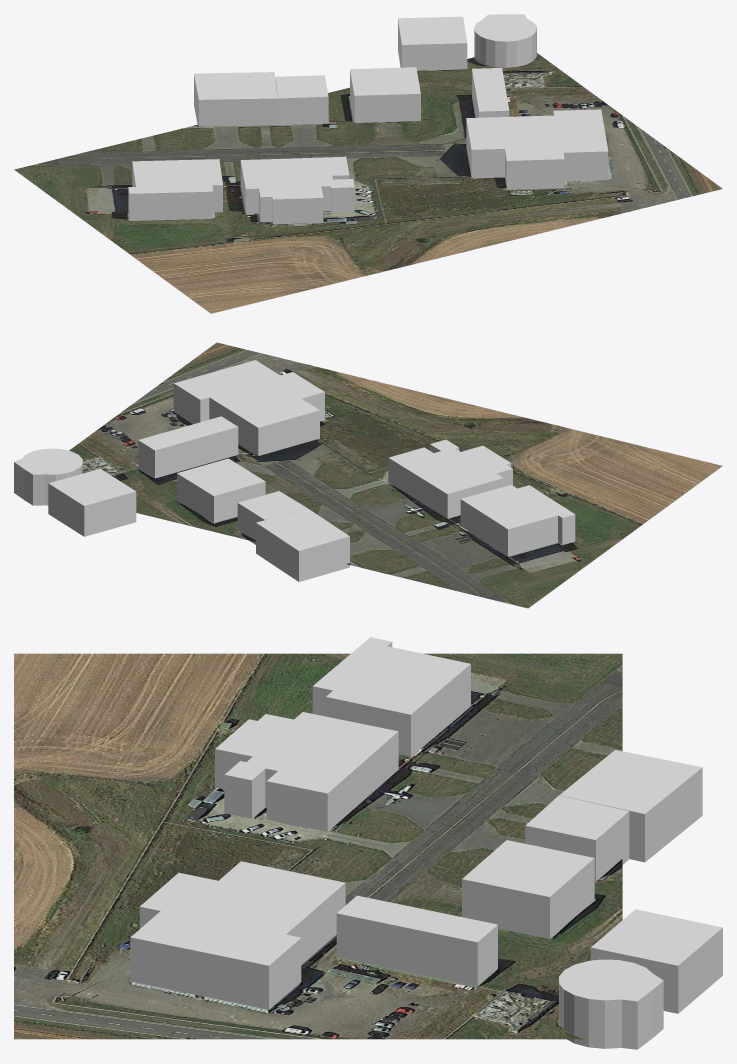
Rendered from V1_world_collisions_a.dae.
The picture shows the model from 3 angles, top to bottom: view 1: azimuth 30°, elevation 25°; view 2: azimuth 150°, elevation 25°; view 3: azimuth 270°, elevation 25°; orthographic projection. The views are drawn at different scales.
Parts seen in each view (by area): view 1: EXPORT_GOOGLE_SAT_WM, Areas:building.001, Areas:building.002; view 2: EXPORT_GOOGLE_SAT_WM, Areas:building.001, Areas:building.002; view 3: EXPORT_GOOGLE_SAT_WM, Areas:building.001, Areas:building.002.
Part boxes in pixels (<box>): EXPORT_GOOGLE_SAT_WM: <box>14,53,722,313</box>; Areas:building.001: <box>128,14,608,220</box>; Areas:building.002: <box>240,156,354,224</box>; EXPORT_GOOGLE_SAT_WM: <box>69,342,722,608</box>; Areas:building.001: <box>14,360,575,581</box>; Areas:building.002: <box>388,439,512,518</box>; EXPORT_GOOGLE_SAT_WM: <box>14,653,622,1039</box>; Areas:building.001: <box>130,637,722,1049</box>; Areas:building.002: <box>215,712,398,831</box>.
Size of what is drawn, in the model's own units: 195 by 150 by 12.35.
